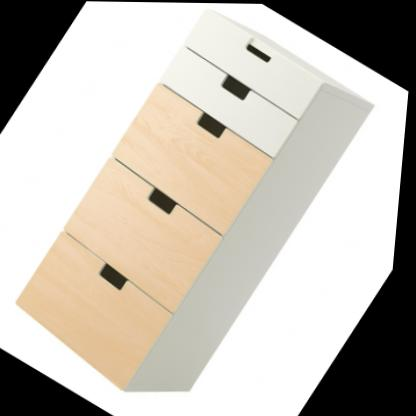Cabinet: (0, 0, 391, 416)
